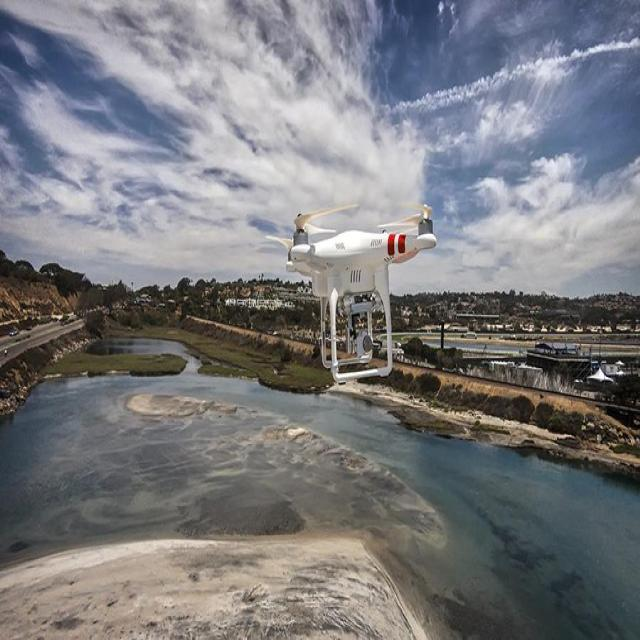drone: (266, 201, 438, 382)
